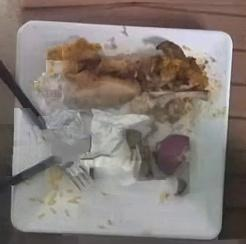potato: (126, 129, 190, 181)
unknown: (47, 38, 210, 117)
